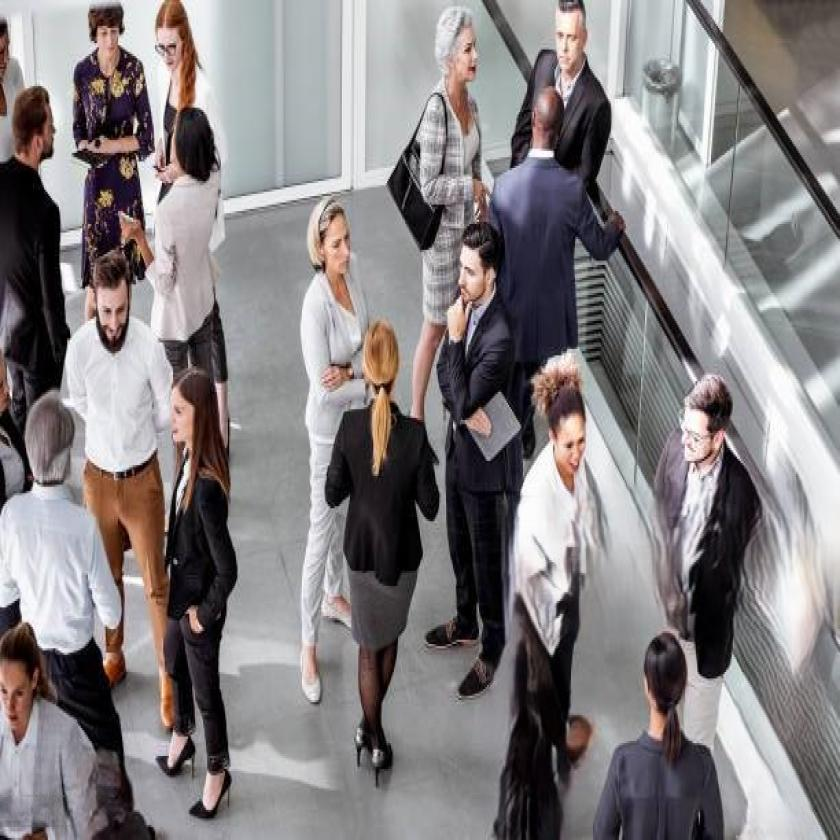Sin_casco: (535, 355, 597, 480), (676, 365, 738, 477), (157, 364, 225, 454), (0, 623, 43, 747), (87, 248, 140, 347), (300, 193, 354, 287), (431, 3, 480, 102), (15, 77, 63, 174), (455, 215, 502, 314), (150, 0, 195, 90), (79, 0, 128, 77), (548, 0, 592, 71)
